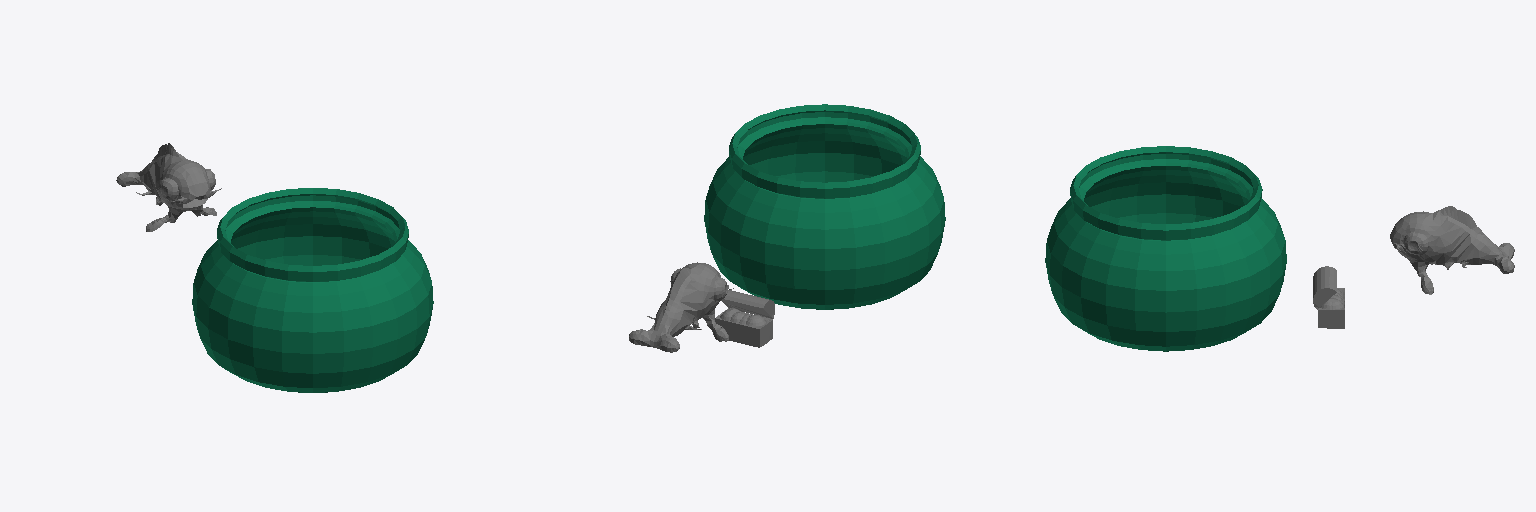
Rendered from fishandco.obj.
3 renders of one model, left to right at view 1: azimuth 30°, elevation 25°; view 2: azimuth 150°, elevation 25°; view 3: azimuth 270°, elevation 25°, orthographic.
Parts seen in each view (by area): view 1: revolvedSurface1, polySurface1; view 2: revolvedSurface1, polySurface1, polySurface2; view 3: revolvedSurface1, polySurface1, polySurface2.
Boxes of the visible parts, x1=… form: revolvedSurface1: x1=192, y1=188, x2=433, y2=392; polySurface1: x1=116, y1=143, x2=221, y2=231; revolvedSurface1: x1=704, y1=104, x2=945, y2=309; polySurface1: x1=629, y1=262, x2=733, y2=352; polySurface2: x1=715, y1=290, x2=774, y2=347; revolvedSurface1: x1=1045, y1=146, x2=1286, y2=351; polySurface1: x1=1390, y1=206, x2=1514, y2=294; polySurface2: x1=1313, y1=266, x2=1344, y2=328.
Bounding box in the file's own units: 11.79 × 7.63 × 22.9.